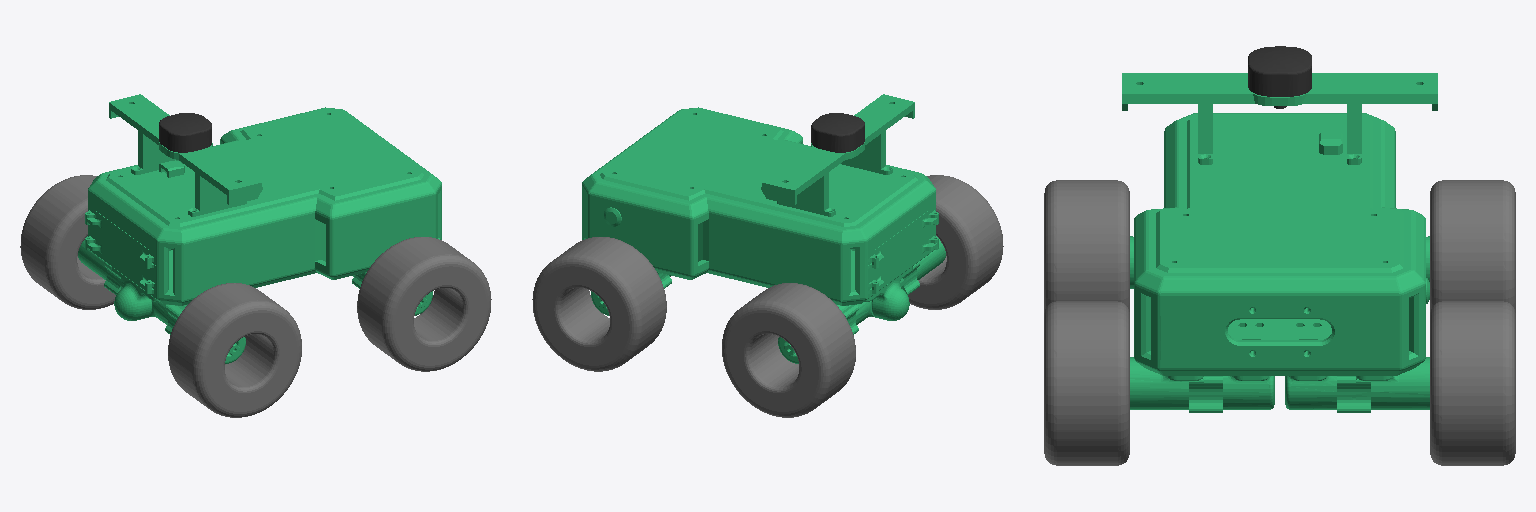
URDF robot description (littlebot):
<?xml version="1.0"?>
<robot xmlns:xacro="http://www.ros.org/wiki/xacro" name="littlebot">
  <link name="base_link">
  </link>

  <link name="wheel1_link">
    <inertial>
      <origin xyz="0 0 0.02865" rpy="0 0 0" />
      <mass value="0.2" />
      <inertia
        ixx="0.00135"
        ixy="0.00000"
        ixz="0.00000"
        iyy="0.00135"
        iyz="0.00000"
        izz="0.00210" />
    </inertial>
    <visual>
      <origin xyz="0 0 0" rpy="0 0 0" />
      <geometry>
        <mesh filename="package://lb_description/meshes/wheel1_link.STL" />
      </geometry>
      <material name="">
        <color rgba="0.5 0.5 0.5 1" />
      </material>
    </visual>
    <collision>
      <origin xyz="0 0 0" rpy="0 0 0" />
      <geometry>
        <mesh filename="package://lb_description/meshes/wheel1_link.STL" />
      </geometry>
    </collision>
  </link>

  <link name="wheel2_link">
    <inertial>
      <origin xyz="0 0 0.02865" rpy="0 0 0" />
      <mass value="0.2" />
      <inertia
        ixx="0.00135"
        ixy="0.00000"
        ixz="0.00000"
        iyy="0.00135"
        iyz="0.00000"
        izz="0.00210" />
    </inertial>
    <visual>
      <origin xyz="0 0 0" rpy="0 0 0" />
      <geometry>
        <mesh filename="package://lb_description/meshes/wheel2_link.STL" />
      </geometry>
      <material
        name="">
        <color rgba="0.5 0.5 0.5 1" />
      </material>
    </visual>
    <collision>
      <origin xyz="0 0 0" rpy="0 0 0" />
      <geometry>
        <mesh filename="package://lb_description/meshes/wheel2_link.STL" />
      </geometry>
    </collision>
  </link>

  <link name="wheel3_link">
    <inertial>
      <origin xyz="0 0.0 -0.035" rpy="0 0 0" />
      <mass
        value="0.2" />
      <inertia
        ixx="0.00135"
        ixy="0.00000"
        ixz="0.00000"
        iyy="0.00135"
        iyz="0.00000"
        izz="0.00210" />
    </inertial>
    <visual>
      <origin xyz="0 0 0" rpy="0 0 0" />
      <geometry>
        <mesh filename="package://lb_description/meshes/wheel3_link.STL" />
      </geometry>
      <material name="">
        <color rgba="0.5 0.5 0.5 1" />
      </material>
    </visual>
    <collision>
      <origin xyz="0 0 0" rpy="0 0 0" />
      <geometry>
        <mesh filename="package://lb_description/meshes/wheel3_link.STL" />
      </geometry>
    </collision>
  </link>

  <link name="wheel4_link">
    <inertial>
      <origin xyz="0 0.0 -0.035" rpy="0 0 0" />
      <mass
        value="0.2" />
      <inertia
        ixx="0.00135"
        ixy="0.00000"
        ixz="0.00000"
        iyy="0.00135"
        iyz="0.00000"
        izz="0.00210" />
    </inertial>
    <visual>
      <origin xyz="0 0 0" rpy="0 0 0" />
      <geometry>
        <mesh filename="package://lb_description/meshes/wheel4_link.STL" />
      </geometry>
      <material name="">
        <color rgba="0.5 0.5 0.5 1" />
      </material>
    </visual>
    <collision>
      <origin xyz="0 0 0" rpy="0 0 0" />
      <geometry>
        <mesh filename="package://lb_description/meshes/wheel4_link.STL" />
      </geometry>
    </collision>
  </link>

  <link name="chassis_link">
    <inertial>
      <origin
        xyz="-0.13003 0.0065063 0.052046"
        rpy="0 0 0" />
      <mass
        value="2.6" />
      <inertia
        ixx="0.0062135"
        ixy="-0.00001"
        ixz="0.00001"
        iyy="0.015216"
        iyz="-0.00001"
        izz="0.012023" />
    </inertial>

    <visual>
      <origin xyz="0 0 0" rpy="0 0 0" />
      <geometry>
        <mesh filename="package://lb_description/meshes/chassis_link.STL" />
      </geometry>
      <material name="">
        <color rgba="0.25 0.75 0.5 1" />
      </material>
    </visual>
    <!-- Collision not included -->
  </link>

  <link name="GPS_link">
    <!-- Inertial not included -->
    <visual>
      <origin xyz="0 0 0" rpy="0 0 0" />
      <geometry>
        <mesh filename="package://lb_description/meshes/GPS_Link.STL" />
      </geometry>
      <material name="">
        <color rgba="0.25 0.25 0.25 1" />
      </material>
    </visual>
    <!-- Collision not included -->
  </link>

  

  <joint name="chassis_joint" type="fixed">
    <origin
      xyz="0.058 -0.13 0.12"
      rpy="0 0 -1.5708" />
    <parent link="base_link" />
    <child link="chassis_link" />
  </joint>

  <joint name="GPS_joint" type="fixed">
    <origin
      xyz="-0.13 -0.1426 0.1"
      rpy="1.5708 0 0" />
    <parent link="chassis_link" />
    <child link="GPS_link" />
  </joint>

  <joint name="wheel1_joint" type="continuous">
    <origin xyz="0 0.06218 -0.055655" rpy="1.5708 0.66623 1.5708" />
    <parent link="chassis_link" />
    <child link="wheel1_link" />
    <axis xyz="0 0 -1" />
  </joint>


  <joint name="wheel2_joint" type="continuous">
    <origin xyz="0 -0.17282 -0.055655" rpy="-1.5708 0.37374 -1.5708" />
    <parent link="chassis_link" />
    <child link="wheel2_link" />
    <axis xyz="0 0 -1" />
  </joint>

  <joint name="wheel3_joint" type="continuous">
    <origin xyz="-0.25335 -0.17282 -0.055655" rpy="1.5708 0.3938 -1.5708" />
    <parent link="chassis_link" />
    <child link="wheel3_link" />
    <axis
      xyz="0 0 1" />
  </joint>

  <joint name="wheel4_joint" type="continuous">
    <origin xyz="-0.25335 0.06218 -0.055655" rpy="1.5708 0.66623 1.5708" />
    <parent link="chassis_link" />
    <child link="wheel4_link" />
    <axis xyz="0 0 1" />
  </joint>


  <!-- Import lb ros2_control description 
  <xacro:include filename="$(find lb_description)/ros2_control/lb_ros2_control.xacro" />
  <xacro:lb_ros2_control name="littlebot" /> -->

  <ros2_control name="lb_base_controller" type="system">
    <hardware>
      <plugin>LBHardware</plugin>
    </hardware>
    <joint name="wheel1_joint">
      <command_interface name="velocity"/>
      <state_interface name="position"/>
      <state_interface name="velocity"/>
    </joint>
    <joint name="wheel2_joint">
      <command_interface name="velocity"/>
      <state_interface name="position"/>
      <state_interface name="velocity"/>
    </joint>
    <joint name="wheel3_joint">
      <command_interface name="velocity"/>
      <state_interface name="position"/>
      <state_interface name="velocity"/>
    </joint>
    <joint name="wheel4_joint">
      <command_interface name="velocity"/>
      <state_interface name="position"/>
      <state_interface name="velocity"/>
    </joint>
  </ros2_control>

</robot>

--- Facts derived from the render (not from the file) ---
The picture shows the robot from 3 angles, left to right: view 1: azimuth 30°, elevation 25°; view 2: azimuth 150°, elevation 25°; view 3: azimuth 270°, elevation 25°; orthographic projection.
Model littlebot with 7 links and 6 joints (4 continuous, 2 fixed), rooted at base_link, posed every joint at zero.
Visible links, largest first — view 1: chassis_link, wheel1_link, wheel2_link, wheel3_link, GPS_link; view 2: chassis_link, wheel4_link, wheel3_link, wheel2_link, GPS_link; view 3: chassis_link, wheel1_link, wheel4_link, wheel3_link, wheel2_link, GPS_link.
Boxes of the visible links, x1,y1,x2,y2 form: chassis_link: (78,94,441,363); wheel1_link: (357,237,491,371); wheel2_link: (168,283,301,417); wheel3_link: (20,175,115,309); GPS_link: (159,113,211,152); chassis_link: (582,94,945,363); wheel4_link: (532,237,666,371); wheel3_link: (722,283,855,417); wheel2_link: (908,175,1003,309); GPS_link: (811,113,864,152); chassis_link: (1122,73,1437,412); wheel1_link: (1044,301,1129,465); wheel4_link: (1430,301,1515,465); wheel3_link: (1430,180,1515,312); wheel2_link: (1044,180,1129,312); GPS_link: (1248,46,1311,108).
Size in the robot's own frame: 0.37 by 0.387 by 0.268 metres.
Meshes: 6 distinct files referenced, 6 mesh visuals loaded (6 binary STL).